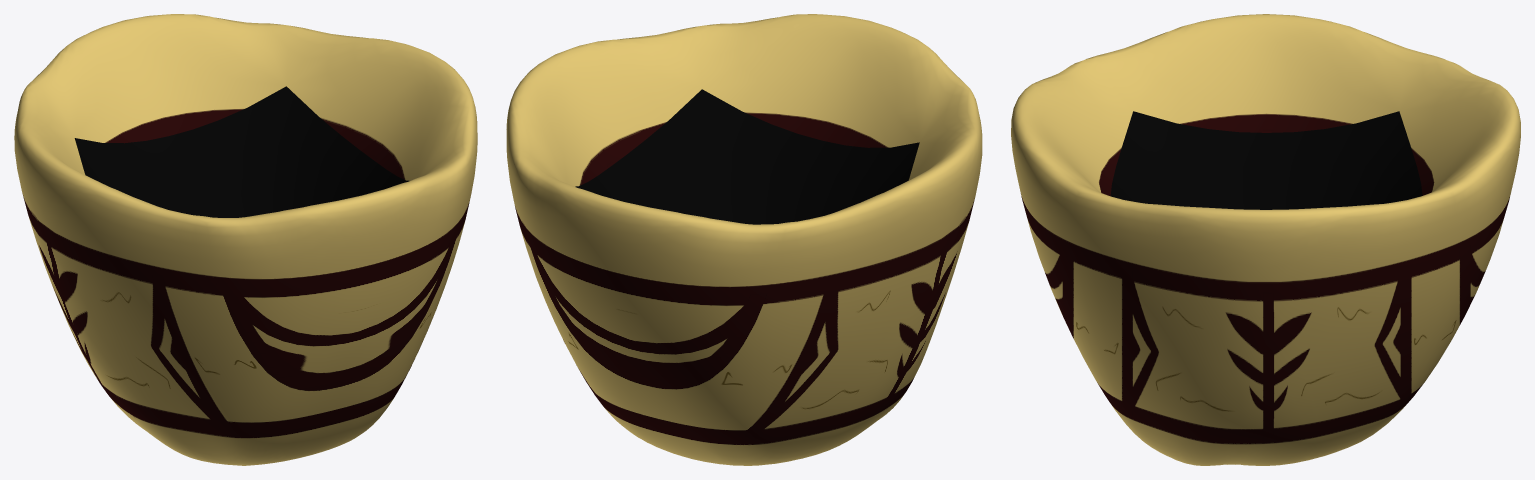
File: meso pot small.fbx
3 views of the same model, side by side, from view 1: azimuth 30°, elevation 25°; view 2: azimuth 150°, elevation 25°; view 3: azimuth 270°, elevation 25° (orthographic). The views are drawn at different scales.
Visible parts, largest first — view 1: pCube1; view 2: pCube1; view 3: pCube1.
Boxes of the visible parts, box(x1,y1,x2,y2) form: pCube1: box(14, 14, 477, 465); pCube1: box(506, 14, 982, 465); pCube1: box(1011, 14, 1520, 465).
Bounding box in the file's own units: 46.16 × 33.51 × 48.46.
3 materials, 2 textured.
